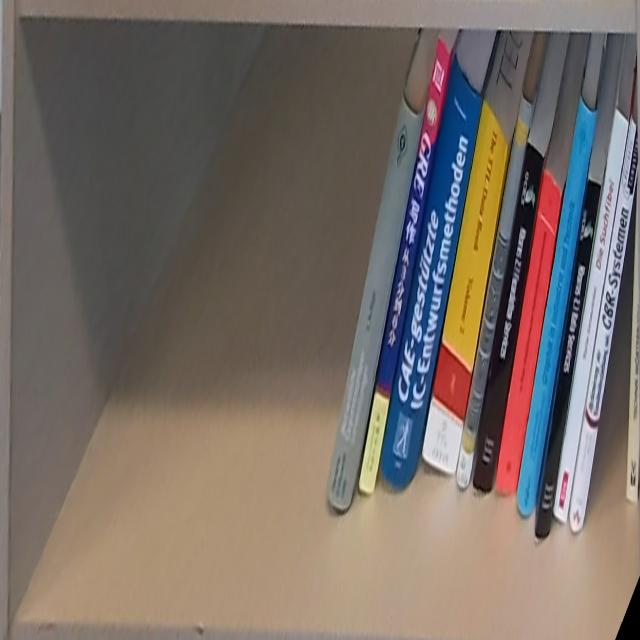Book Spine: (381, 55, 482, 490), (358, 40, 451, 497), (328, 92, 425, 511), (515, 96, 597, 517), (422, 102, 509, 478), (553, 110, 629, 525), (457, 94, 533, 490), (568, 116, 638, 532), (473, 140, 545, 493), (535, 179, 601, 539), (496, 171, 563, 496)
